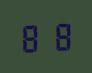eight: (19, 21, 45, 53), (46, 20, 72, 51)
